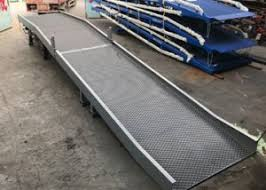Yard Ramp: (16, 9, 259, 162)
